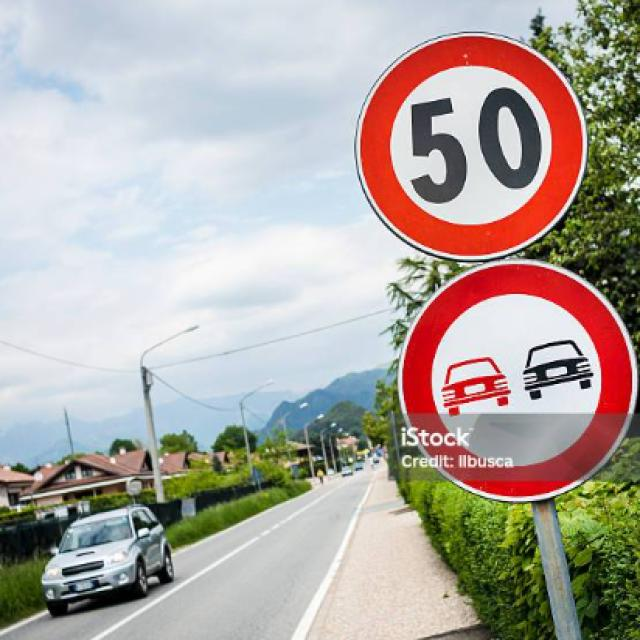speed_50: (357, 34, 589, 261)
